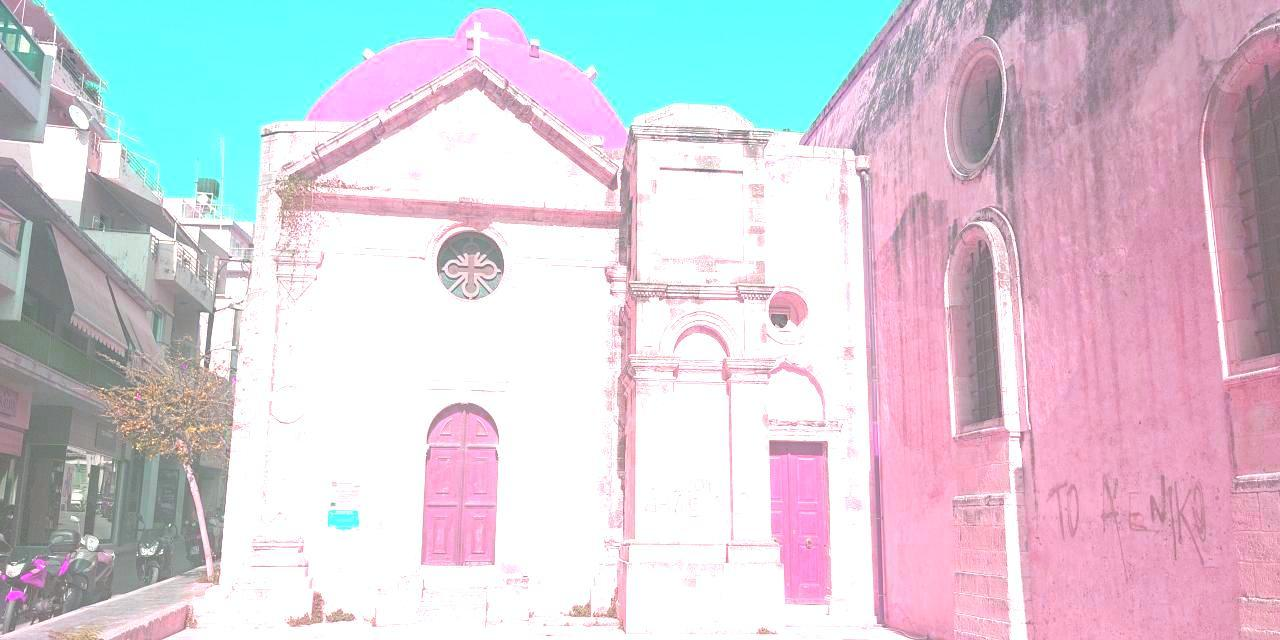Agia Aikaterini: (238, 10, 870, 640)
